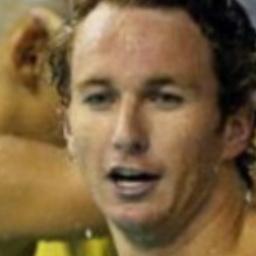Person: (22, 1, 256, 248)
